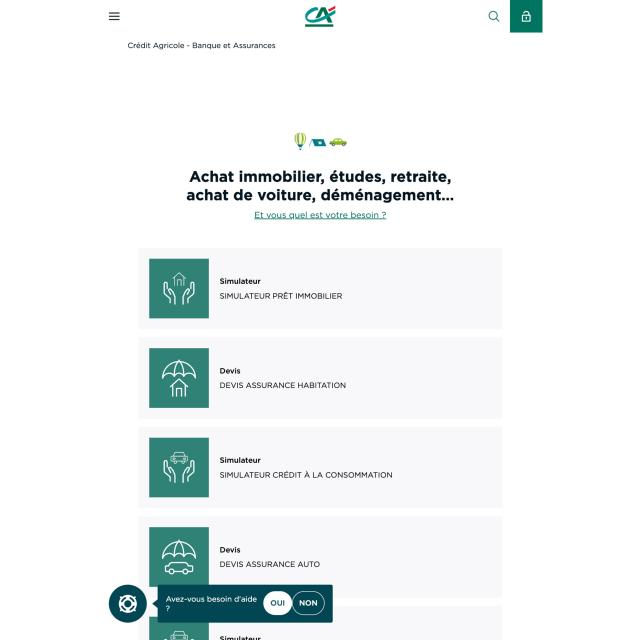CheckBox: (251, 208, 389, 223), (292, 590, 326, 618), (262, 590, 294, 617)
Input field: (220, 470, 393, 480), (219, 380, 349, 391), (218, 290, 344, 301), (219, 558, 322, 569)
SeekBar: (125, 39, 278, 51)
bag: (1, 0, 640, 37)
breadcrumbs: (218, 272, 263, 287), (218, 453, 263, 467), (218, 364, 245, 377), (218, 543, 244, 555)
carousel: (116, 592, 140, 614), (485, 8, 502, 26), (518, 8, 534, 25), (106, 9, 122, 25)
content: (158, 538, 200, 580), (158, 357, 199, 399), (158, 446, 198, 486), (158, 270, 198, 308), (291, 130, 307, 154), (310, 134, 328, 150), (329, 136, 349, 148)
date picker: (300, 2, 338, 32)
decoration: (102, 5, 125, 29)
image: (183, 166, 460, 206)
